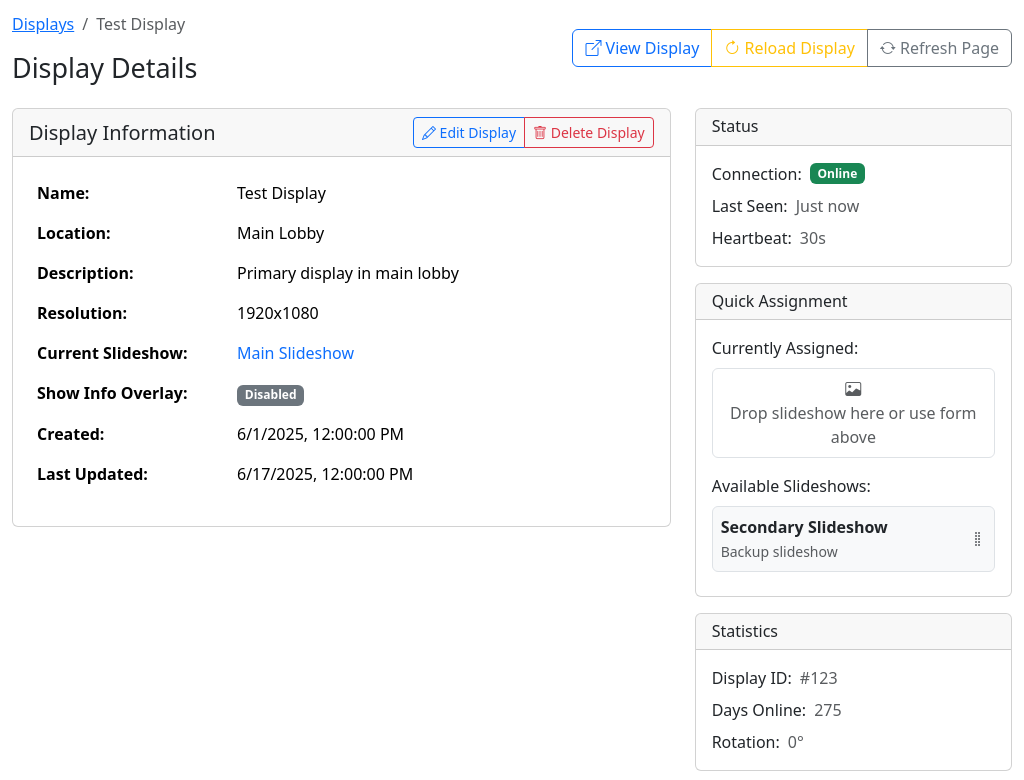
DisplayDetail › enters edit mode when edit button is clicked
Note: Click edit button
Click the button "Edit Display" at point(469, 133), box left=413, top=117, right=525, bottom=148
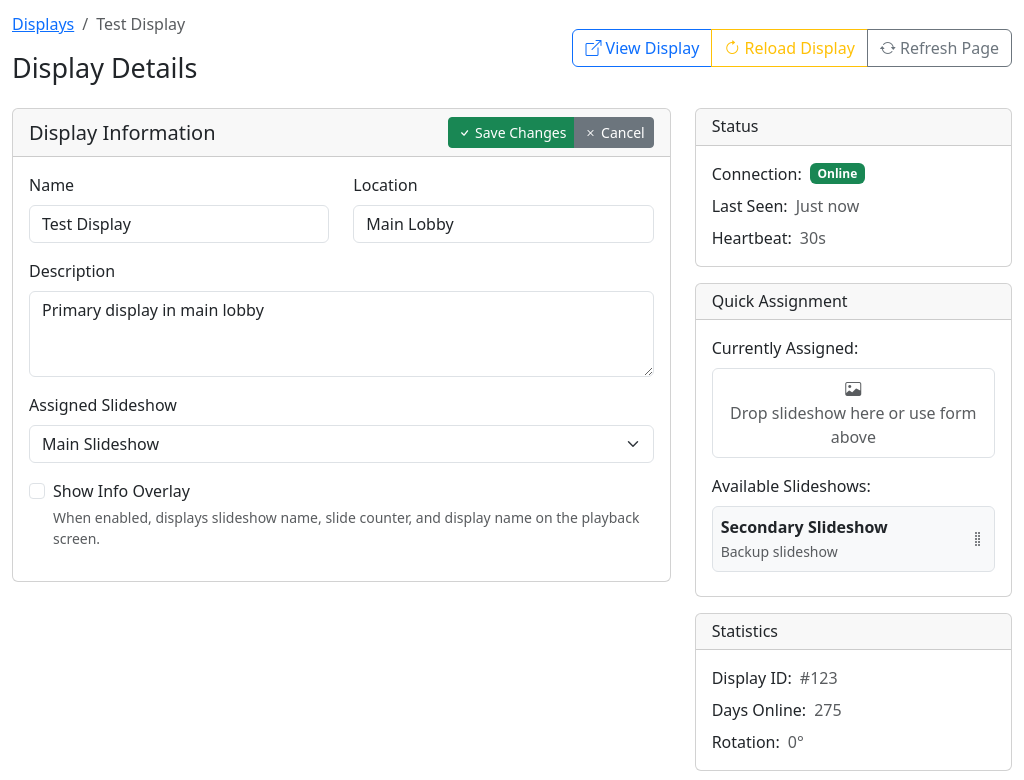
Now the field showing "Test Display" is shown, box left=29, top=205, right=329, bottom=243
Now the field showing "Main Lobby" is shown, box left=353, top=205, right=654, bottom=243
Now the text box showing "Primary display in main lobby" is shown, box left=29, top=291, right=654, bottom=377
